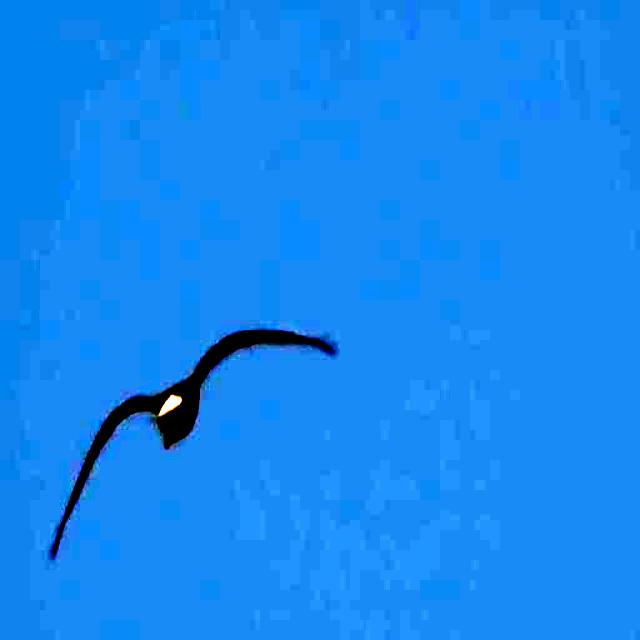airplane: (54, 318, 334, 570)
